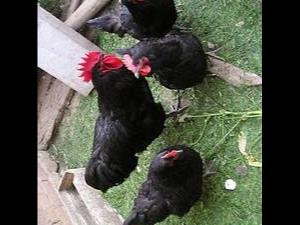hen: (76, 50, 190, 193), (119, 143, 217, 225), (115, 29, 224, 91), (84, 0, 191, 40)
